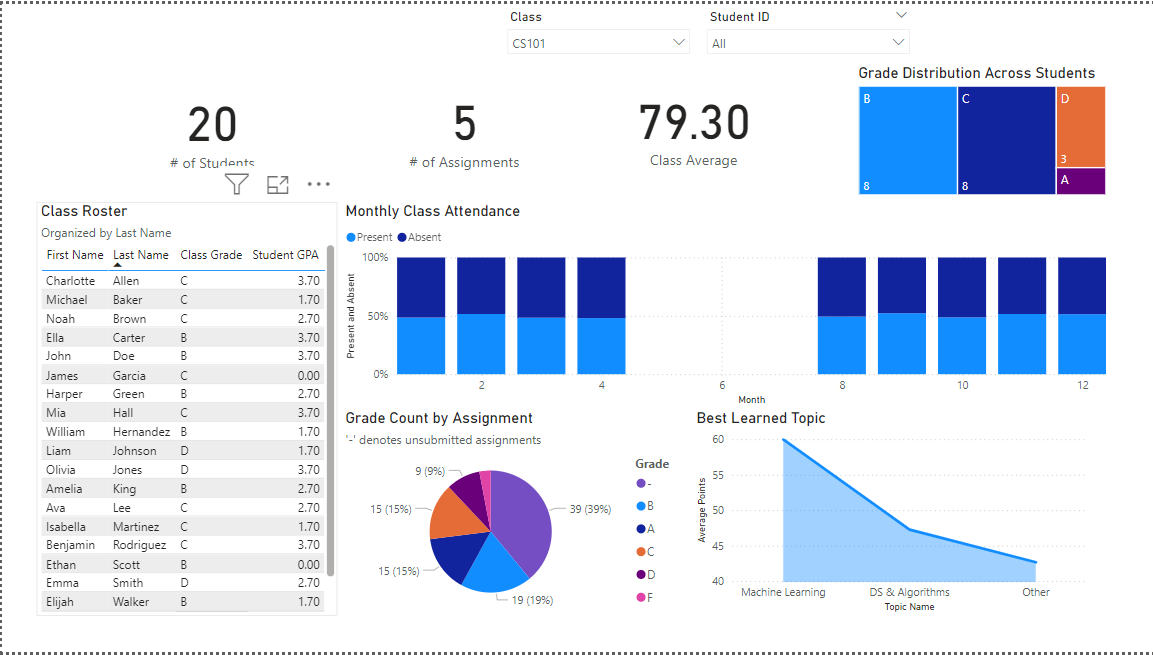

What the dashboard file says about the page in this screenshot:
{"tool":"powerbi","page":{"name":"Page 1","canvas":[1280,720],"ordinal":0},"visuals":[{"type":"card","fields":{"Values":["public students.studentid"]},"box":[65,65,280,167.5],"z":0},{"type":"card","fields":{"Values":["public assignments.assignmentid"]},"box":[345,67.5,280,165],"z":1000},{"type":"card","fields":{"Values":["public assignmentsentry.points"]},"box":[627.5,67.5,280,165],"z":2000},{"type":"tableEx","fields":{"Values":["public students.first_name","public students.last_name","public students.class_grade","public gpa.gpaval"]},"box":[82.6,233.2,293.1,403.2],"z":3000},{"type":"pieChart","fields":{"Y":["public assignmentsentry.assignments_entryid"],"Category":["public assignmentsentry.ass_grade"]},"box":[440.4,417.8,327.1,218.6],"z":4000},{"type":"areaChart","fields":{"Category":["public topics.topic_name"],"Y":["public assignmentsentry.points"]},"box":[798.3,417.8,412.9,218.6],"z":5000},{"type":"slicer","fields":{"Values":["public classes.class_name"]},"box":[551.8,0,223,66.1],"z":6000},{"type":"treemap","fields":{"Group":["public students.class_grade"],"Values":["public students.class_grade"]},"box":[947.5,82.5,263.8,150],"z":7000},{"type":"tableEx","box":[375.7,233.2,835.5,150.6],"z":7001}]}

Visuals, with their boxes in screenshot pixels (x1, y1, x2, y2), scaled from the page's 1280x720 canvas onto the 1153x655 screenshot:
card - public students.studentid: bbox=(59, 59, 311, 212)
card - public assignments.assignmentid: bbox=(311, 61, 563, 212)
card - public assignmentsentry.points: bbox=(565, 61, 817, 212)
tableEx - public students.first_name x public students.last_name: bbox=(74, 212, 338, 579)
pieChart - public assignmentsentry.assignments_entryid x public assignmentsentry.ass_grade: bbox=(397, 380, 691, 579)
areaChart - public topics.topic_name x public assignmentsentry.points: bbox=(719, 380, 1091, 579)
slicer - public classes.class_name: bbox=(497, 0, 698, 60)
treemap - public students.class_grade x public students.class_grade: bbox=(853, 75, 1091, 212)
tableEx: bbox=(338, 212, 1091, 349)
